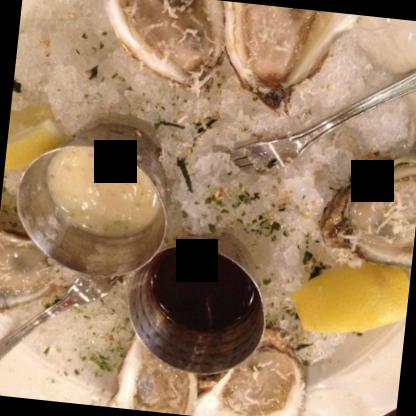oyster: (215, 1, 373, 113), (94, 0, 231, 90), (319, 147, 415, 271), (191, 321, 315, 415), (100, 322, 204, 416), (0, 215, 63, 320)
